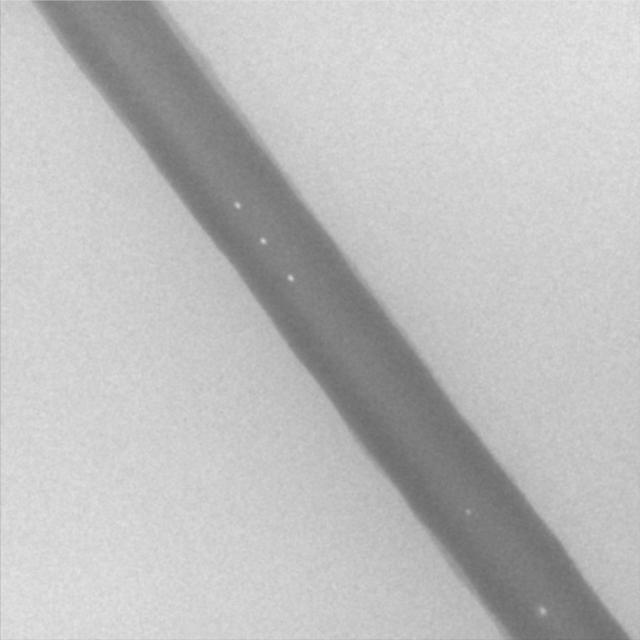air hole: (535, 603, 548, 618), (231, 197, 240, 211), (285, 271, 295, 283), (462, 505, 472, 517), (258, 234, 266, 246)
